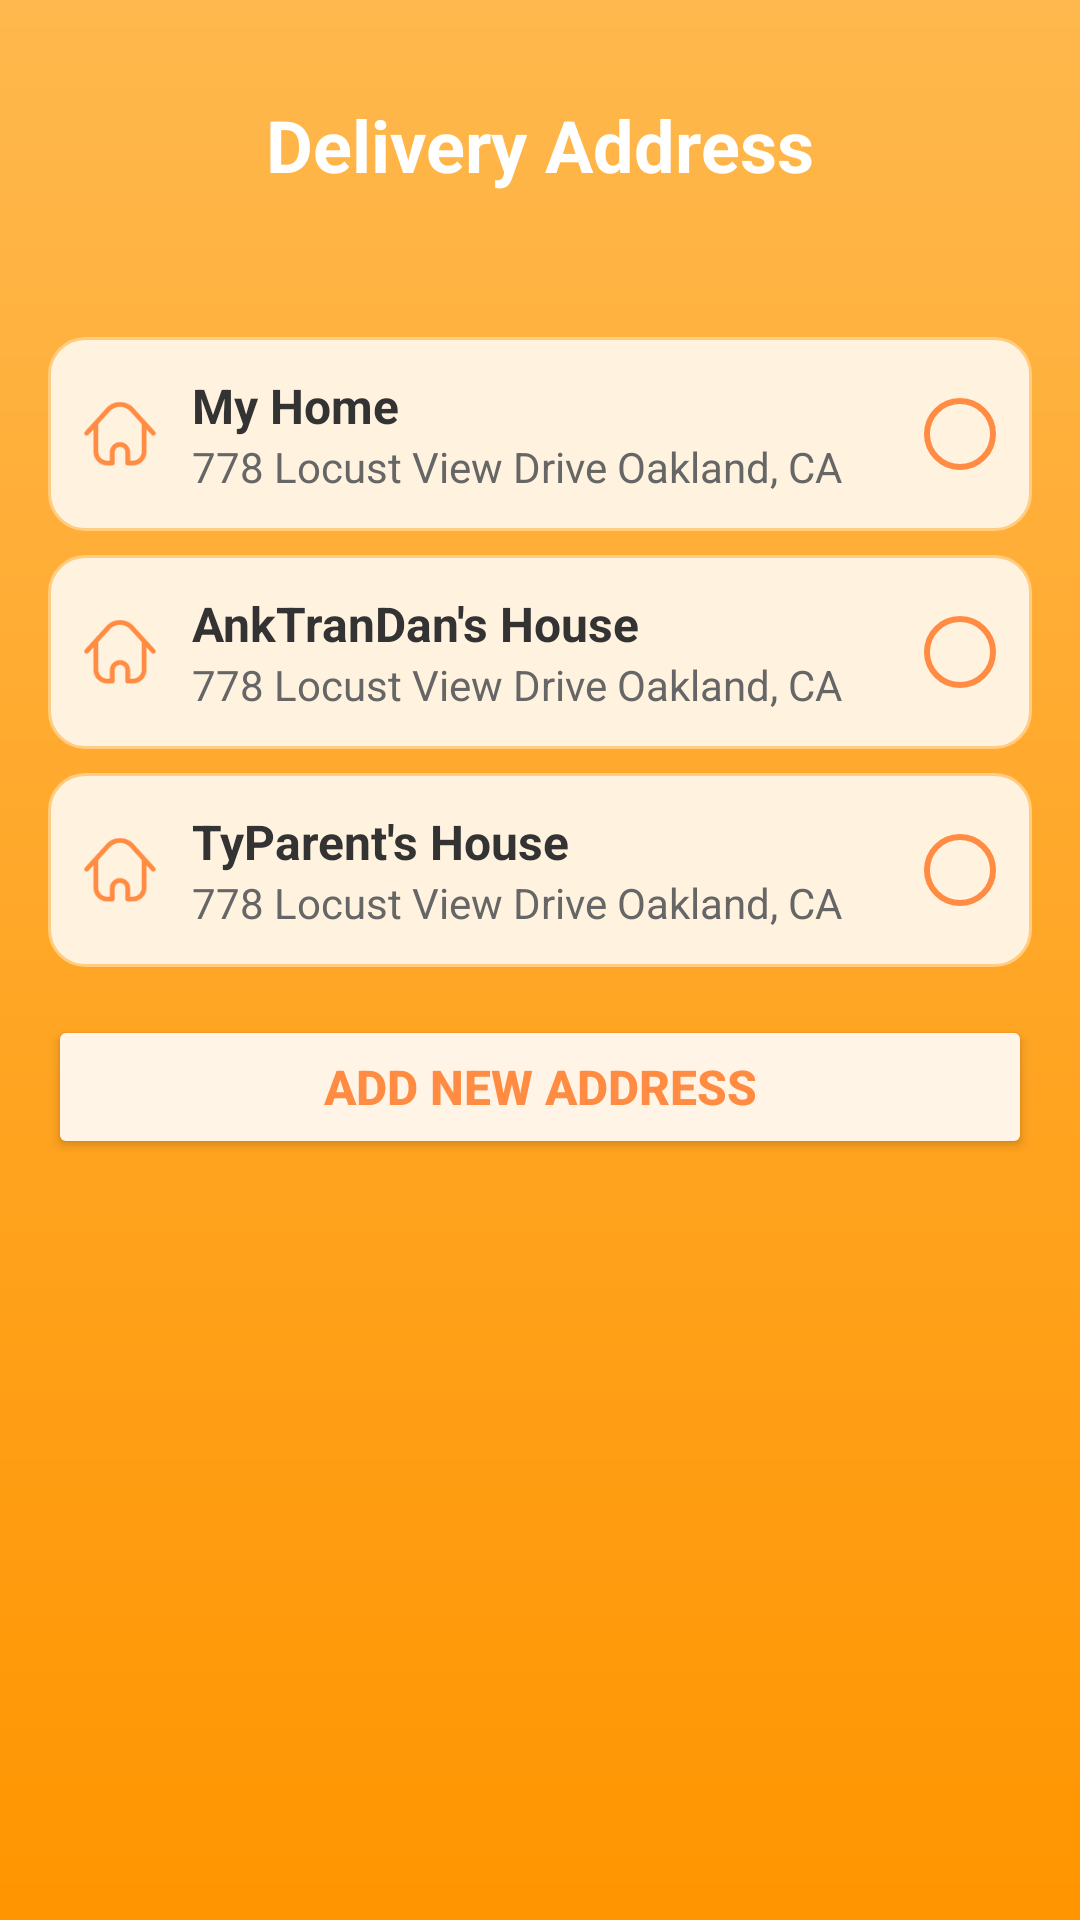

Screen size 1080px×1920px. Icon name, then its center in pixels as [x,y]:
Radio Button: [960,434], [960,652], [960,870]
